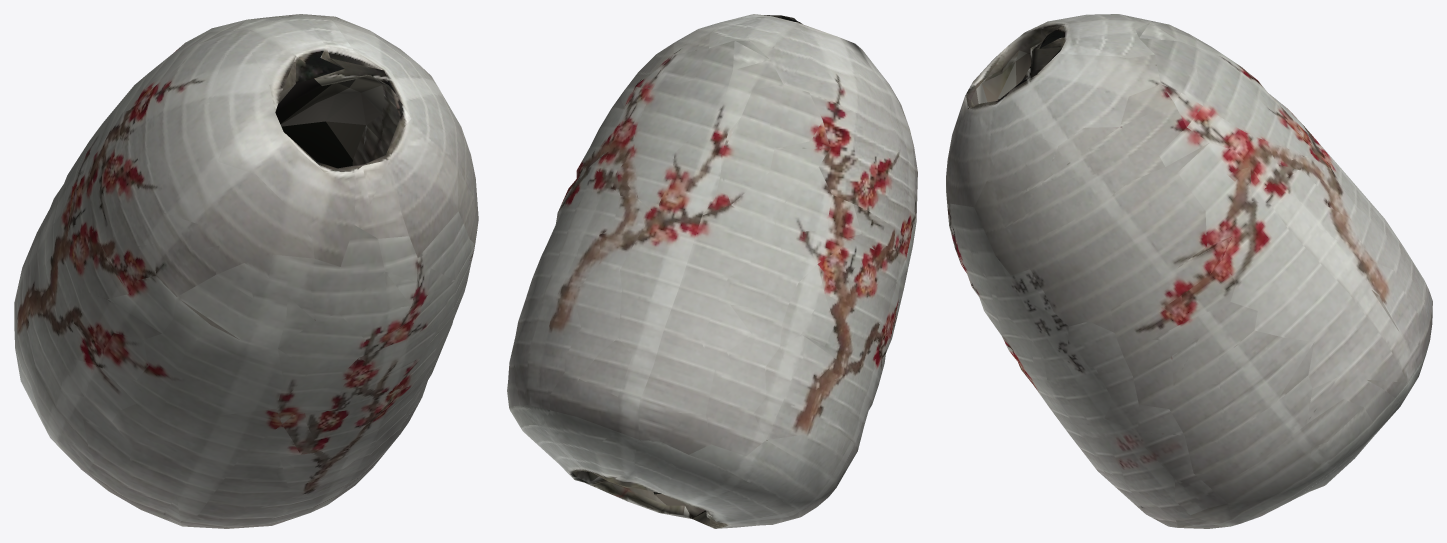
File: AT4 Felix Bobbi Plum Oval.glb
3 views of the same model, side by side, from view 1: azimuth 30°, elevation 25°; view 2: azimuth 150°, elevation 25°; view 3: azimuth 270°, elevation 25° (orthographic). The views are drawn at different scales.
Size of the model in its own units: 728 by 1000 by 929.
1 material, 1 textured.
